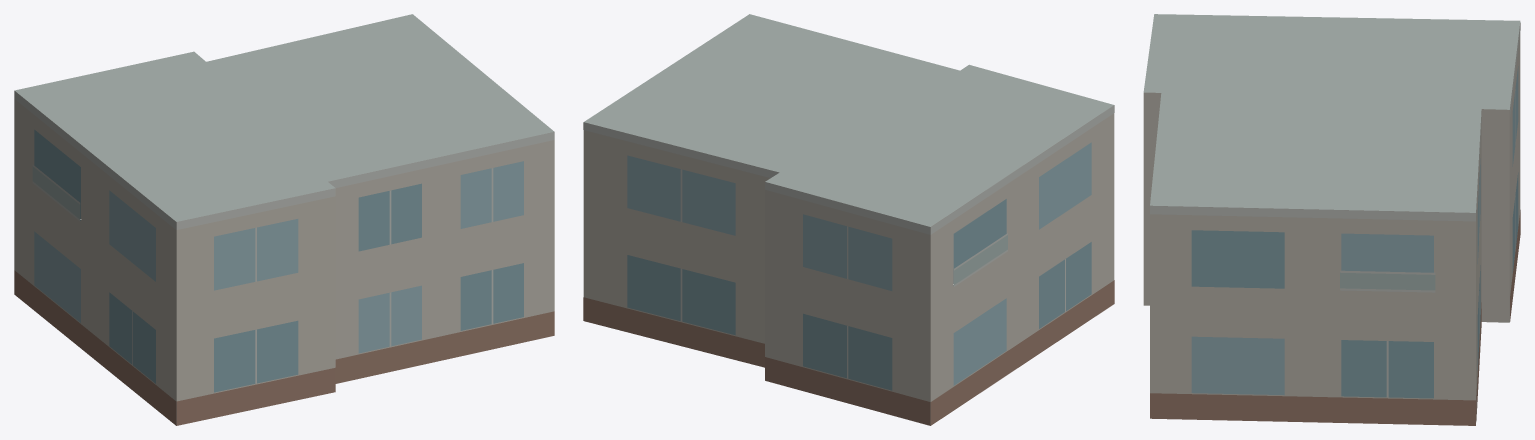
The model's file is survey-upis-32660815.glb.
3 renders of one model, left to right at view 1: azimuth 30°, elevation 25°; view 2: azimuth 150°, elevation 25°; view 3: azimuth 270°, elevation 25°, orthographic. The views are drawn at different scales.
Visible parts, largest first — view 1: survey-upis-32660815.tmp; view 2: survey-upis-32660815.tmp; view 3: survey-upis-32660815.tmp.
Part boxes in pixels (x1,y1,x2,y2): survey-upis-32660815.tmp: (14, 14, 554, 425); survey-upis-32660815.tmp: (583, 14, 1114, 425); survey-upis-32660815.tmp: (1143, 14, 1520, 425).
Bounding box in the file's own units: 12.23 × 6.1 × 9.8.
